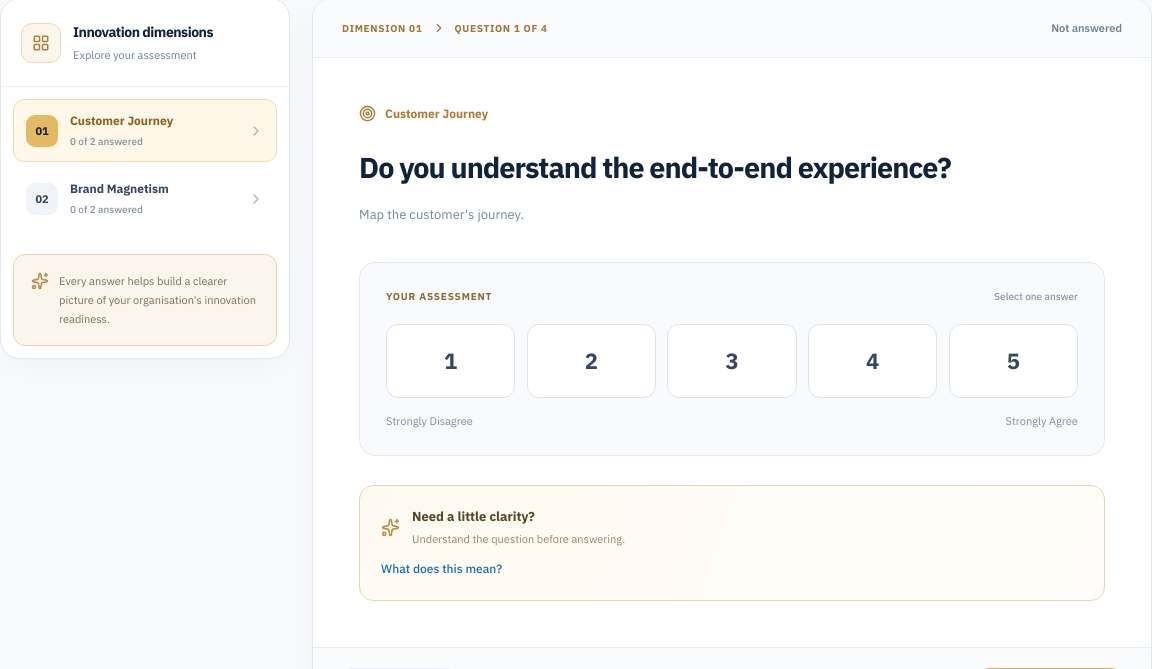
QuestionnairePage › saves each answer as it is chosen and shows it saved
The image size is (1152, 669).
(page scrolled)
Step 1. Click the radio button labelled "4" → (873, 361), box [808,324,937,398]
(page scrolled)
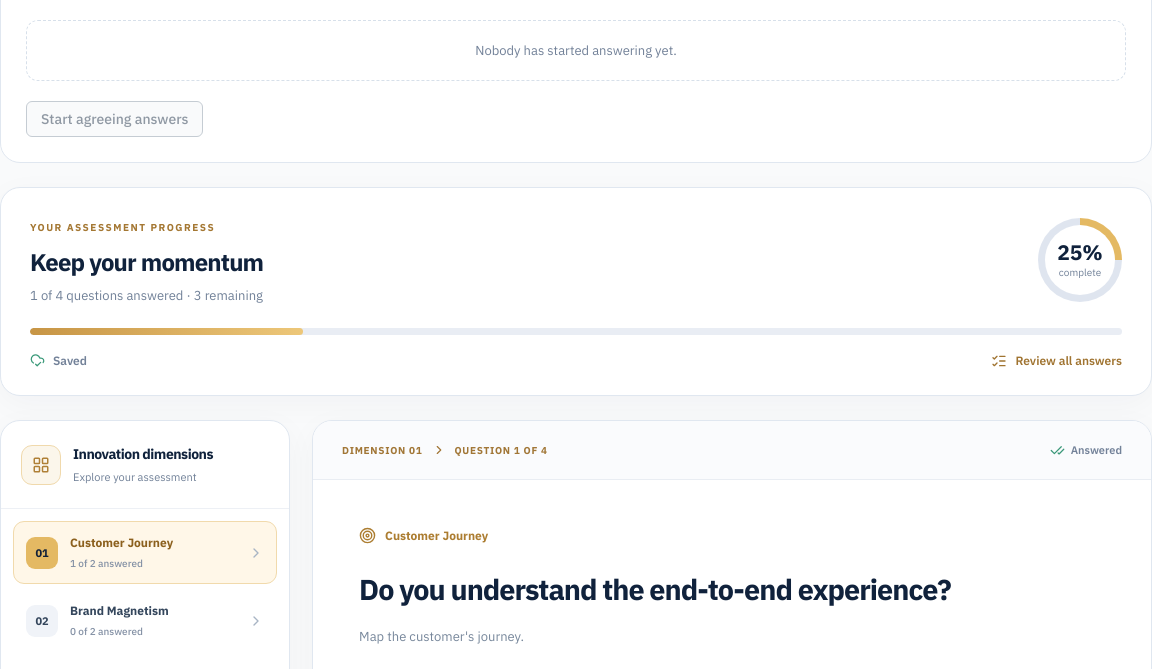
Check: the text "Saved" is shown, box [30,352,87,370]
Check: the progress indicator named "Assessment completion" has attribute aria-valuenow="1", box [30,328,1122,335]
Step 2. Click the button "Review all answers" → (1057, 361), box [992,352,1122,370]
(page scrolled)
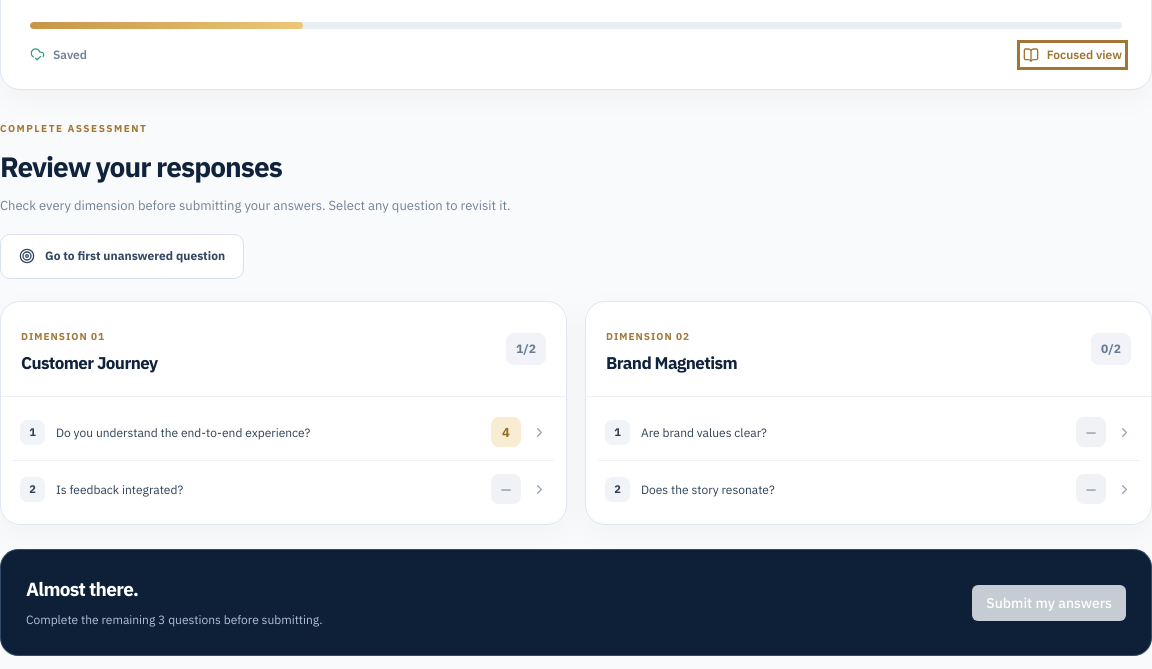
Check: the button "Submit my answers" is disabled, box [972,585,1126,621]
